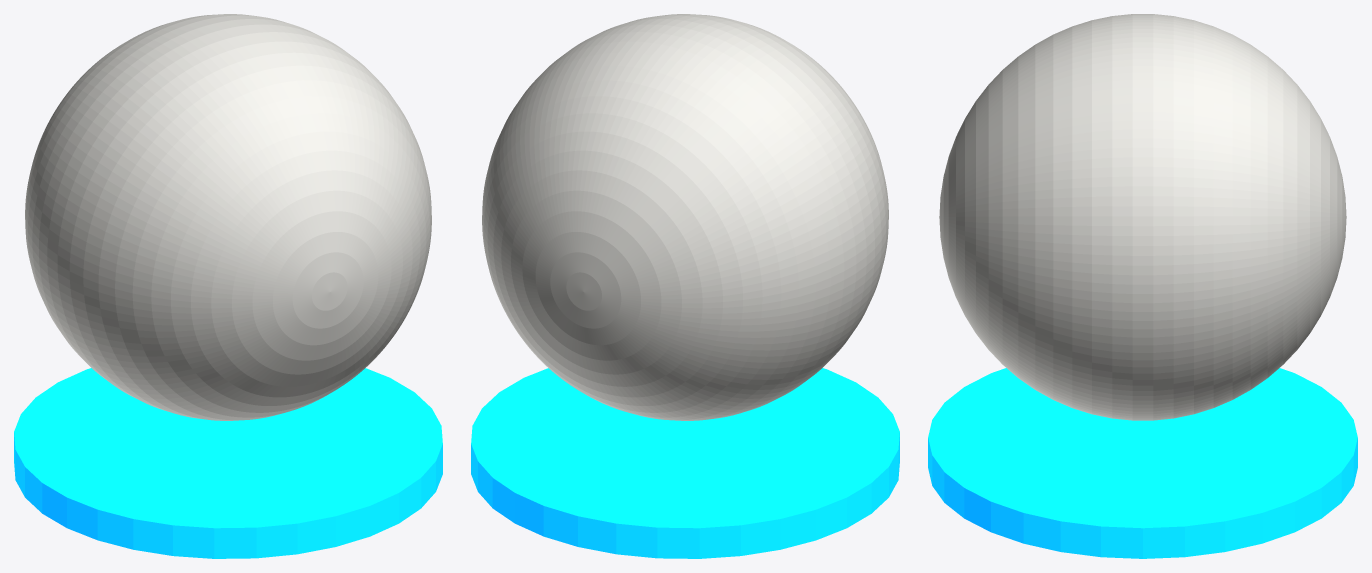
The model's file is sports_soccer_ball.glb.
The picture shows the model from 3 angles, left to right: view 1: azimuth 30°, elevation 25°; view 2: azimuth 150°, elevation 25°; view 3: azimuth 270°, elevation 25°; orthographic projection.
Parts seen in each view (by area): view 1: 04_01_Popular_Sports_Soccer_Ball_part_01, 04_01_Popular_Sports_Soccer_Ball_ROOT_base; view 2: 04_01_Popular_Sports_Soccer_Ball_part_01, 04_01_Popular_Sports_Soccer_Ball_ROOT_base; view 3: 04_01_Popular_Sports_Soccer_Ball_part_01, 04_01_Popular_Sports_Soccer_Ball_ROOT_base.
Part boxes in pixels (box(x1,y1,x2,y2)): 04_01_Popular_Sports_Soccer_Ball_part_01: box(25, 14, 431, 420); 04_01_Popular_Sports_Soccer_Ball_ROOT_base: box(14, 368, 442, 558); 04_01_Popular_Sports_Soccer_Ball_part_01: box(482, 14, 888, 420); 04_01_Popular_Sports_Soccer_Ball_ROOT_base: box(471, 368, 899, 558); 04_01_Popular_Sports_Soccer_Ball_part_01: box(939, 14, 1346, 420); 04_01_Popular_Sports_Soccer_Ball_ROOT_base: box(928, 368, 1357, 558).
Size of the model in its own units: 0.76 by 0.8491 by 0.76.
